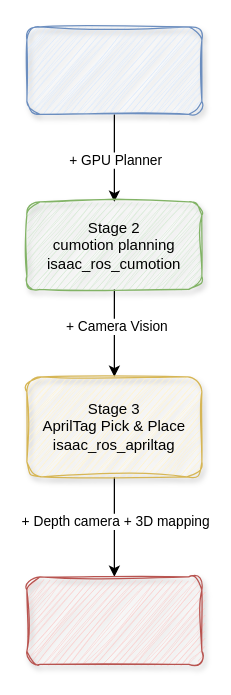
The diagram is 231 pixels wide and 695 high, and some of its shapes have lost their labels. Each missing label, with the centre of its shape:
"Stage 1 Basic Trajectory Moveit2 Planner (OMPL)" belongs at point (115, 72).
"Stage 4 Nvblox obstacle avoidance" belongs at point (115, 622).
